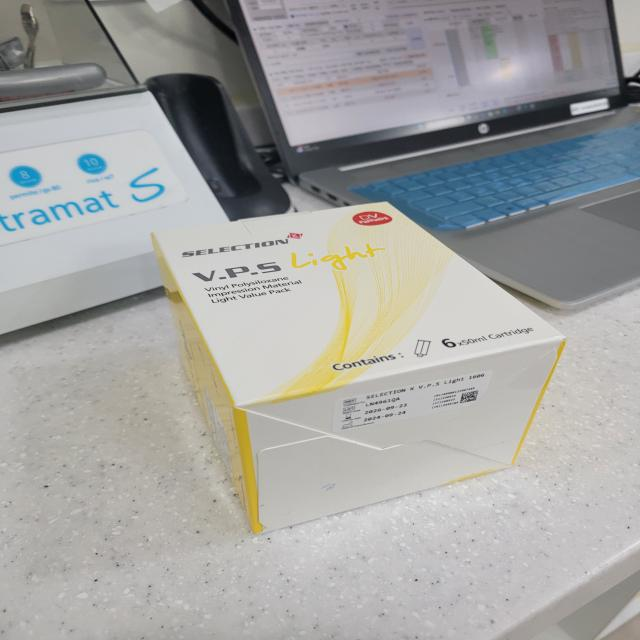impression: (118, 199, 570, 533)
